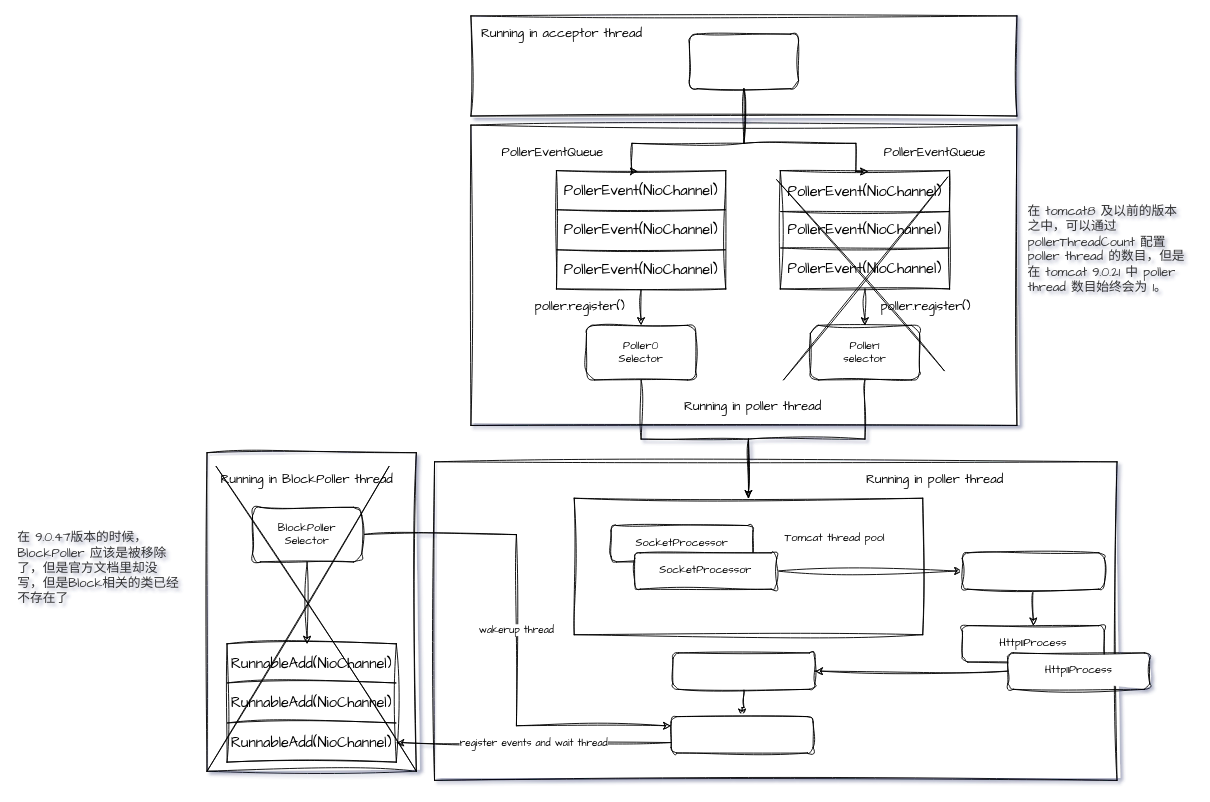
The diagram is 1210 pixels wide and 802 high, and some of its shapes have lost their labels. The shapes that lost their labels are listed below. From the top down, each one's centre as x and y in pixels, then its label:
At pixel 743 61: "Acceptor".
At pixel 1032 570: "ConntectionHandler".
At pixel 743 670: "CoyoteAdapter".
At pixel 741 734: "ServletContainer".
